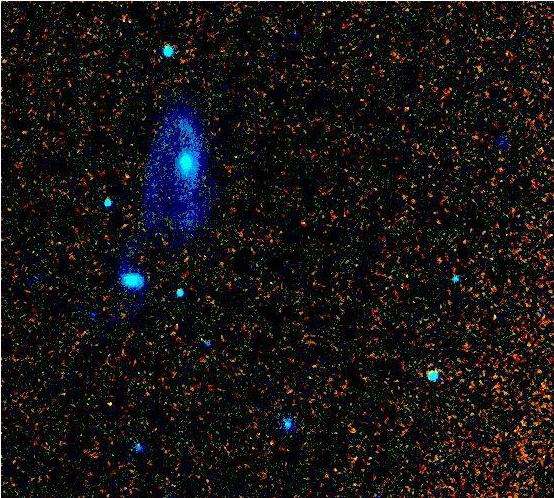star: (168, 123, 198, 153)
